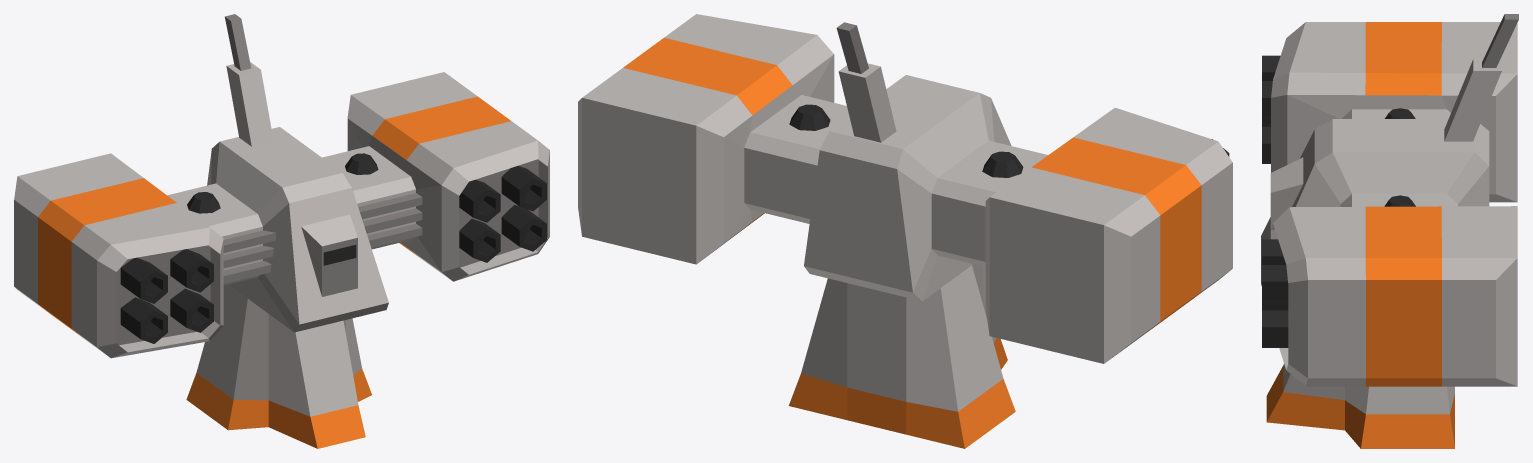
File: scifi_scifi-turret-head-missile-big.fbx
3 views of the same model, side by side, from view 1: azimuth 30°, elevation 25°; view 2: azimuth 150°, elevation 25°; view 3: azimuth 270°, elevation 25° (orthographic). The views are drawn at different scales.
Visible parts, largest first — view 1: scifi_scifi_turret_head_missile_big; view 2: scifi_scifi_turret_head_missile_big; view 3: scifi_scifi_turret_head_missile_big.
Part boxes in pixels (x1,y1,x2,y2): scifi_scifi_turret_head_missile_big: [14, 14, 549, 448]; scifi_scifi_turret_head_missile_big: [578, 14, 1232, 448]; scifi_scifi_turret_head_missile_big: [1261, 14, 1518, 448].
Size of the model in its own units: 186 by 136 by 80.97.
